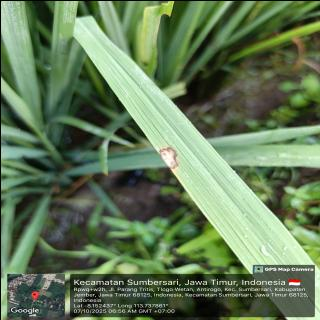Blast: (150, 144, 188, 170)
